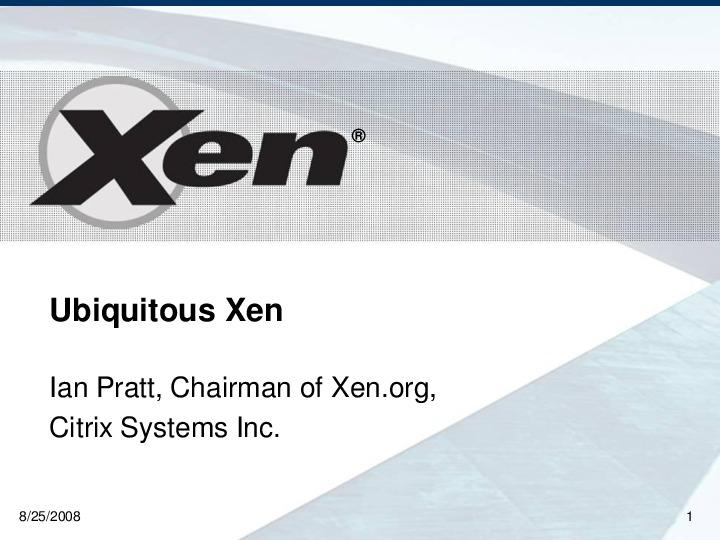subtitle: (42, 364, 458, 454), (42, 279, 308, 337)
title: (24, 88, 382, 226)
